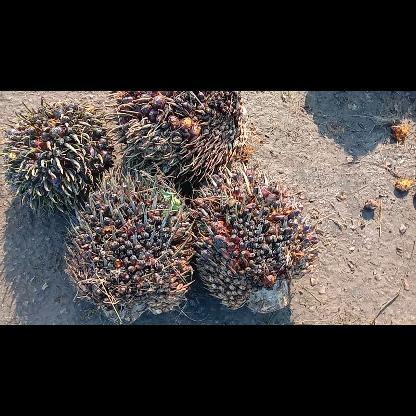TBS abnormal: (62, 160, 198, 324), (188, 159, 320, 317), (0, 96, 117, 219)
TBS masak: (100, 91, 250, 189)
